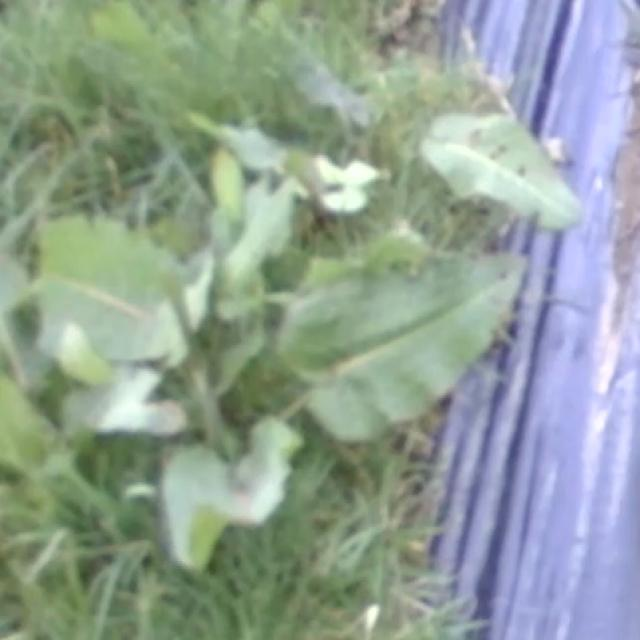organic waste: (8, 95, 570, 583), (384, 57, 632, 256)
